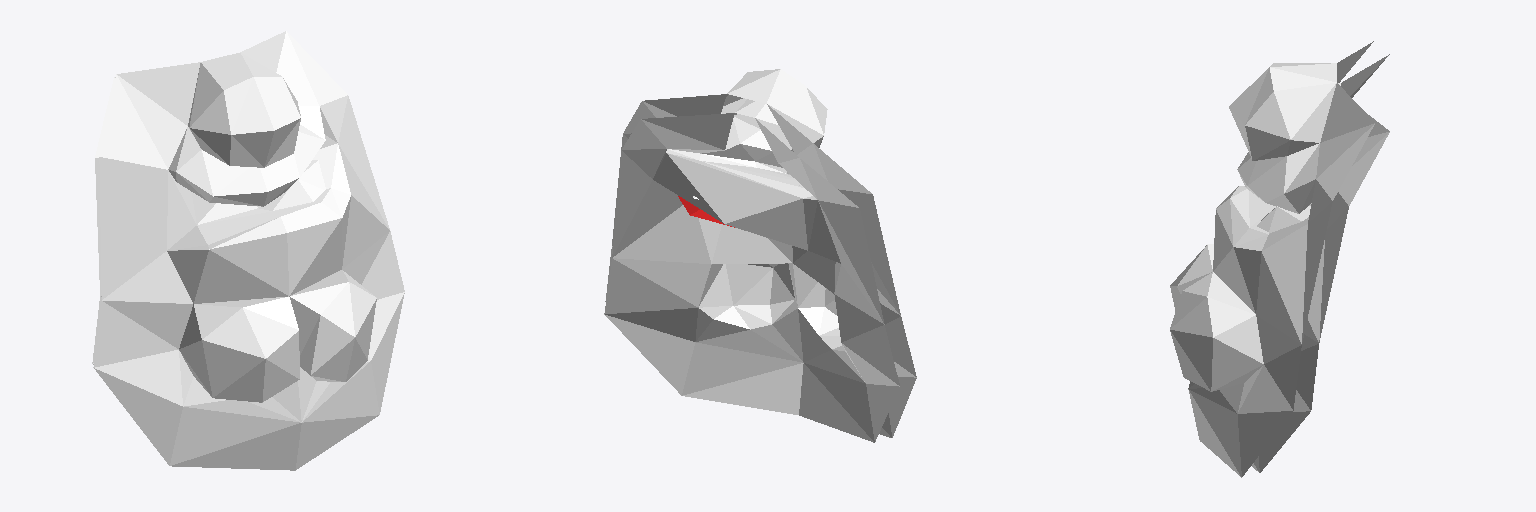
3 renders of one model, left to right at view 1: azimuth 30°, elevation 25°; view 2: azimuth 150°, elevation 25°; view 3: azimuth 270°, elevation 25°, orthographic.
Visible parts, largest first — view 1: Mesh_0091_Mesh_0091Mesh, Mesh_0092_Mesh_0092Mesh, Mesh_0093_Mesh_0093Mesh; view 2: Mesh_0093_Mesh_0093Mesh, Mesh_0091_Mesh_0091Mesh; view 3: Mesh_0091_Mesh_0091Mesh, Mesh_0093_Mesh_0093Mesh, Mesh_0092_Mesh_0092Mesh.
Part boxes in pixels (bbox=[...]): Mesh_0091_Mesh_0091Mesh: bbox=[93, 31, 404, 470]; Mesh_0092_Mesh_0092Mesh: bbox=[257, 160, 325, 210]; Mesh_0093_Mesh_0093Mesh: bbox=[92, 77, 115, 364]; Mesh_0093_Mesh_0093Mesh: bbox=[604, 99, 899, 442]; Mesh_0091_Mesh_0091Mesh: bbox=[605, 69, 916, 437]; Mesh_0091_Mesh_0091Mesh: bbox=[1170, 41, 1374, 477]; Mesh_0093_Mesh_0093Mesh: bbox=[1252, 54, 1389, 472]; Mesh_0092_Mesh_0092Mesh: bbox=[1257, 206, 1310, 232].
Size of the model in its own units: 0.3679 by 0.4177 by 0.2256.
Materials: 3 (1 with a texture image).